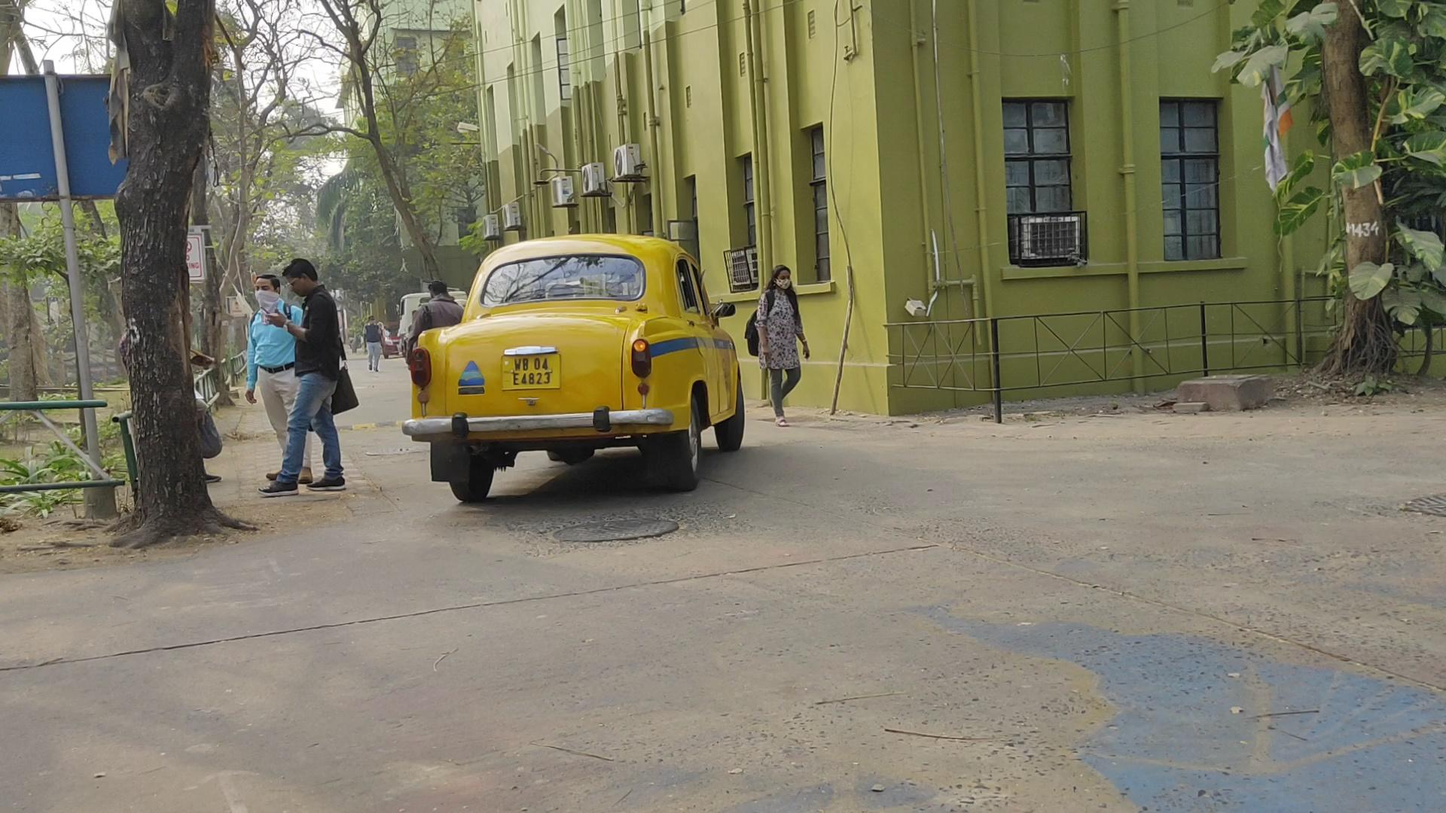car: (401, 233, 746, 504)
